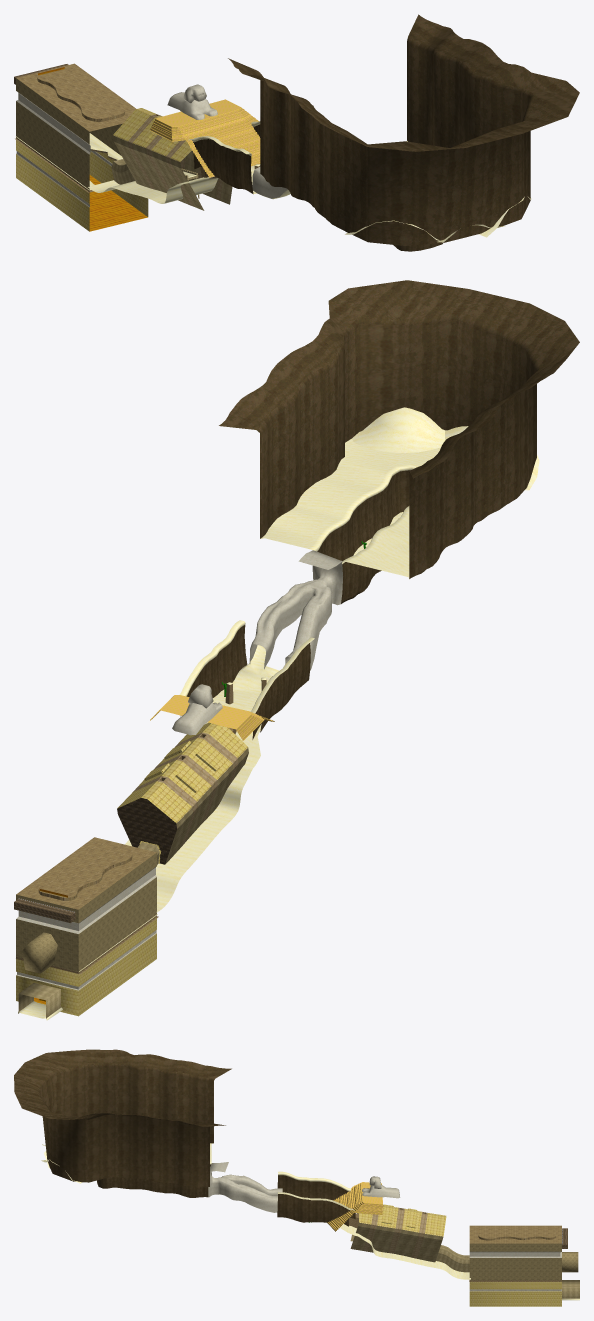
File: SandGlidePlanetA_FullExport.fbx
The picture shows the model from 3 angles, top to bottom: view 1: azimuth 30°, elevation 25°; view 2: azimuth 150°, elevation 25°; view 3: azimuth 270°, elevation 25°; orthographic projection. The views are drawn at different scales.
Parts seen in each view (by area): view 1: SandGlidePlanetA; view 2: SandGlidePlanetA; view 3: SandGlidePlanetA.
Boxes of the visible parts, x1,y1,x2,y2 form: SandGlidePlanetA: (14,14,579,251); SandGlidePlanetA: (14,280,579,1020); SandGlidePlanetA: (14,1049,579,1306).
Size of the model in its own units: 2097289 by 3048514 by 7159223.
Materials: 20 (20 with a texture image).
